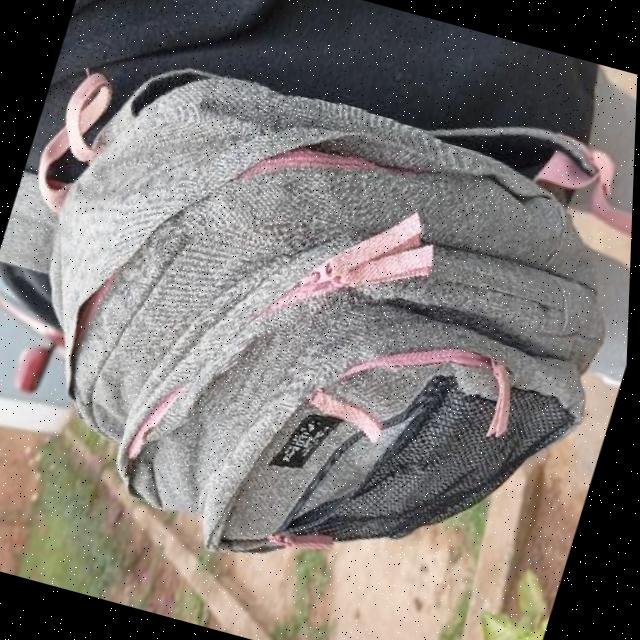canta: (0, 4, 640, 636)
